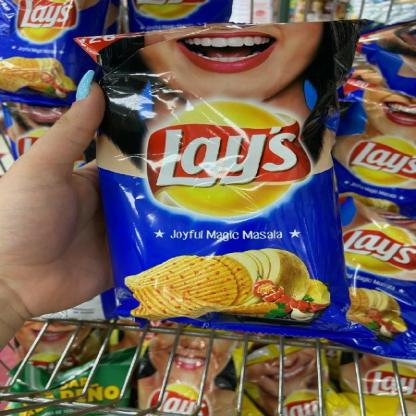classicsalted: (240, 346, 329, 415), (334, 353, 415, 415)
indian_magic_masala: (78, 19, 360, 330), (341, 203, 413, 362), (335, 73, 415, 190), (2, 0, 87, 101), (0, 101, 88, 167), (127, 0, 233, 31)
